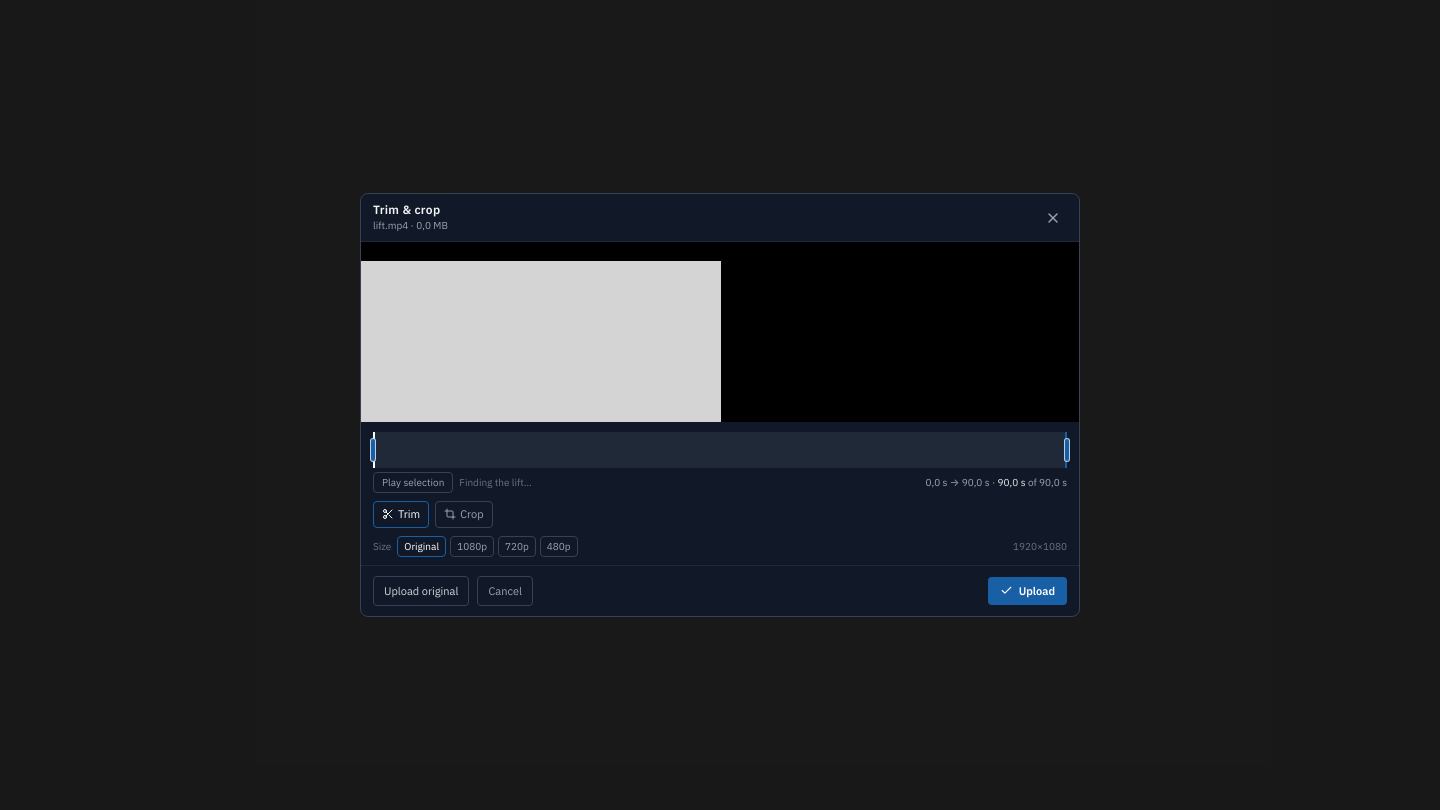
ClipEditor › reveals the crop box and its ratio presets on entering crop mode
Click the button "Crop". click: [464, 514]
box: top-left (435, 501), bottom-right (493, 528)
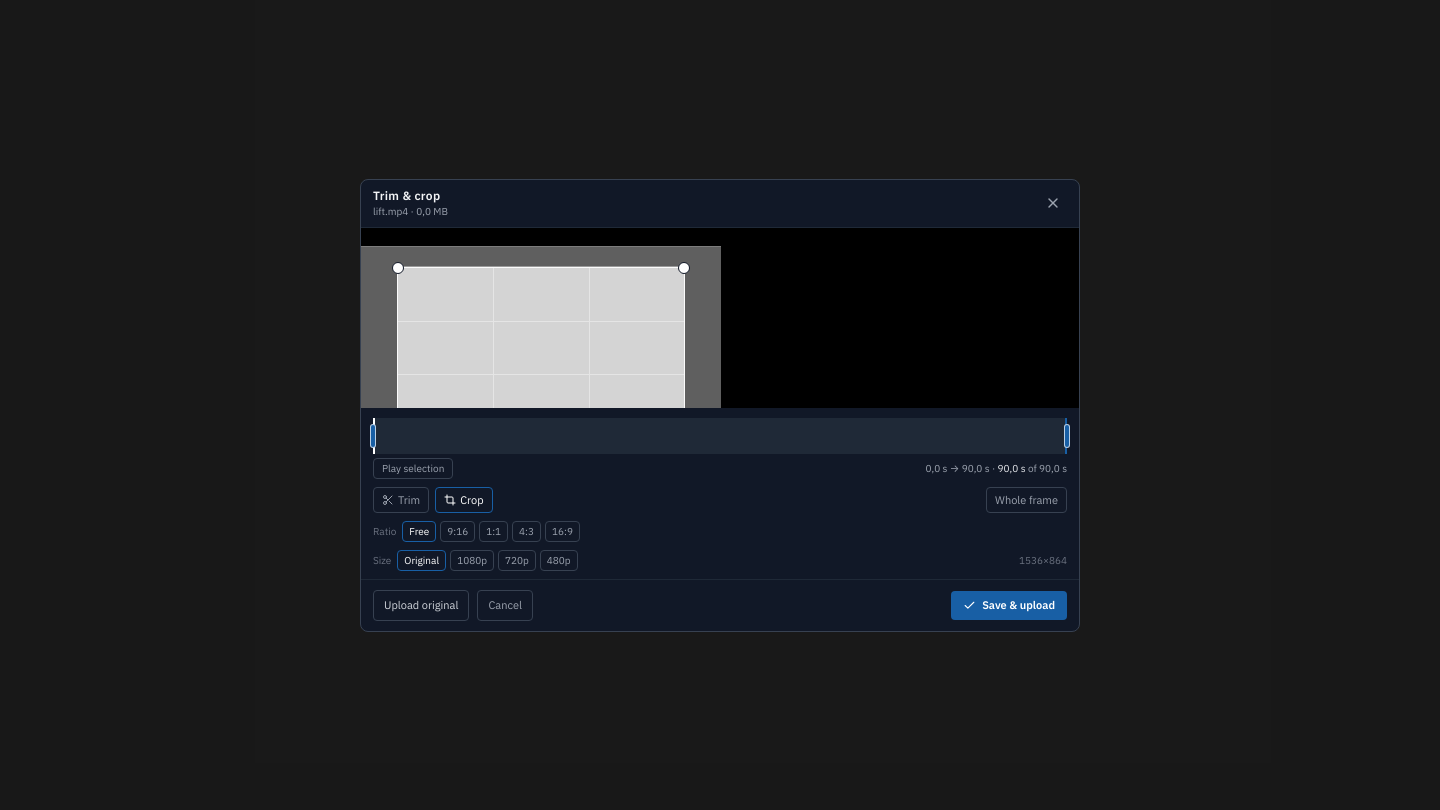
Check: the element named "Crop area" is shown, box top-left (397, 266), bottom-right (685, 408)
Check: the button "9:16" is shown, box top-left (440, 521), bottom-right (475, 542)
